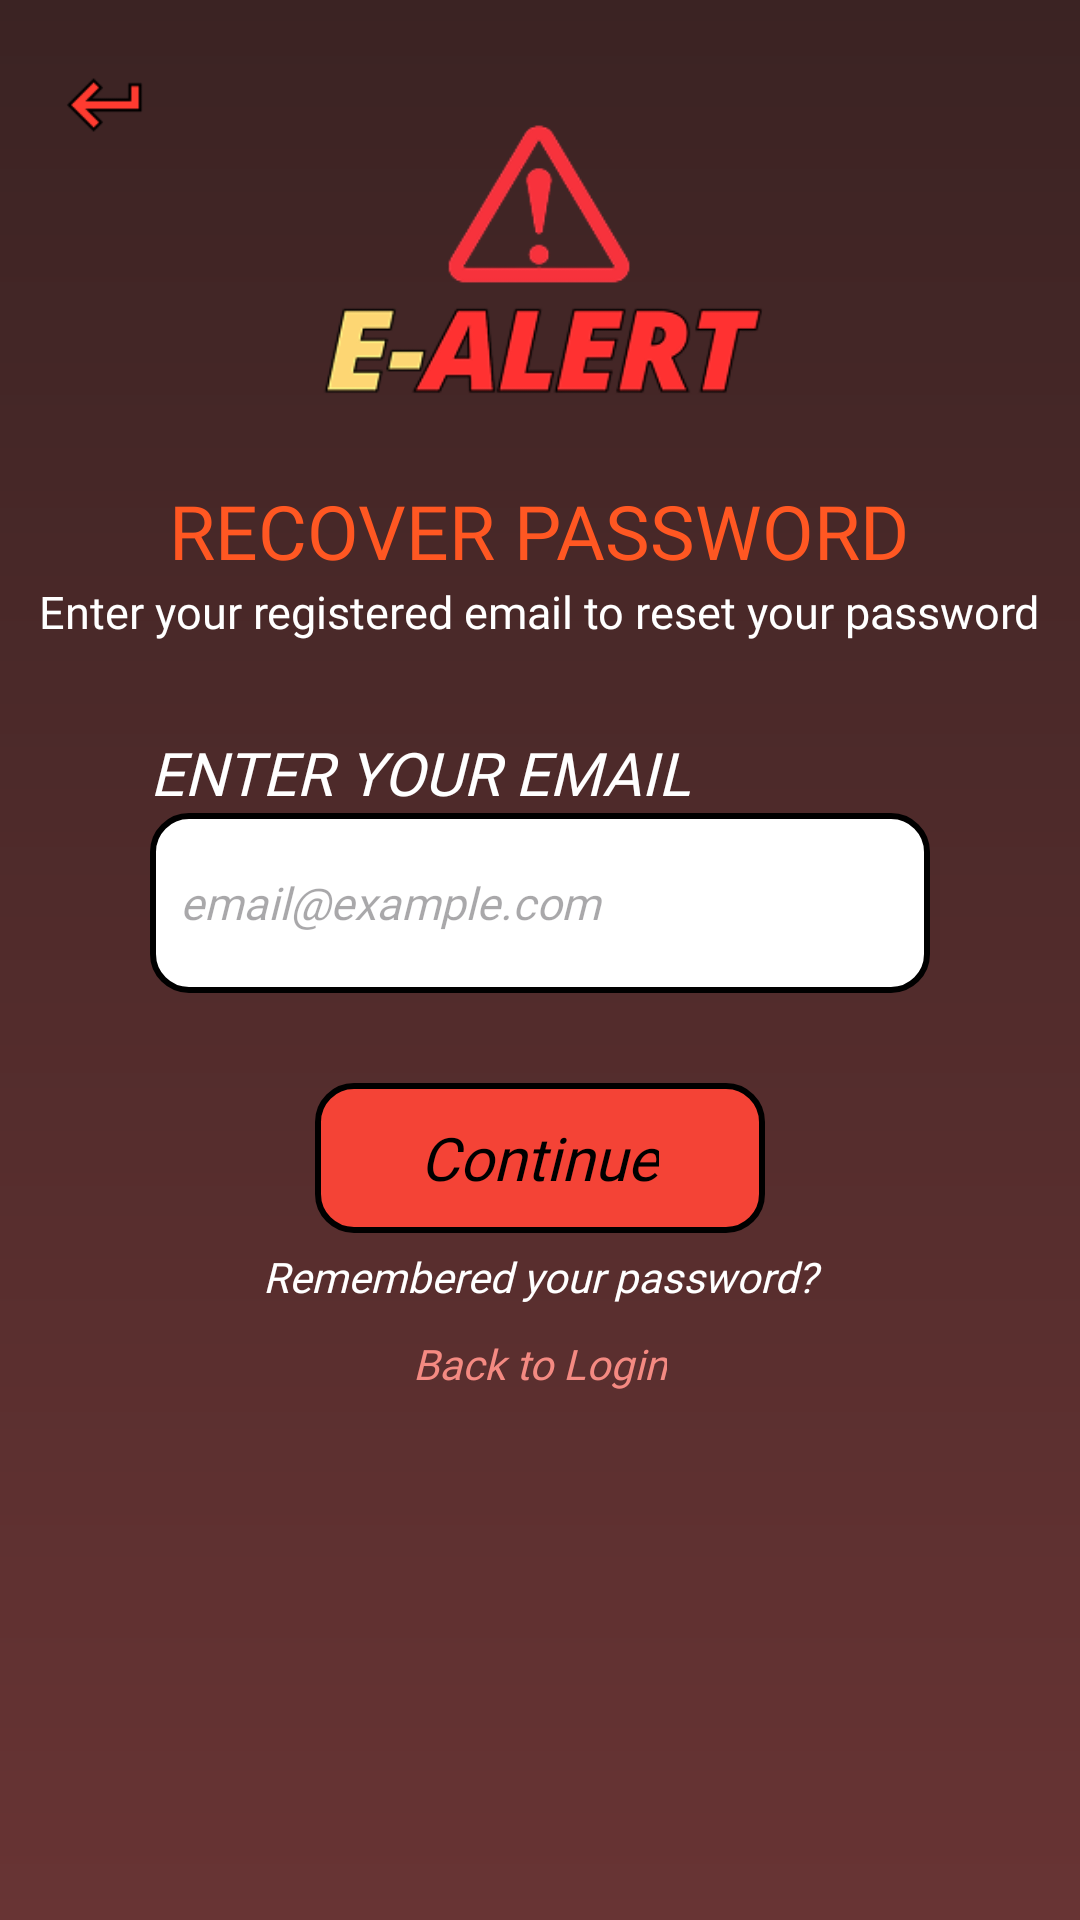

Icons on this 1080 x 1920 Android screen, each with its box as (x1, y1, x2, y2):
back: (67, 79, 142, 131)
